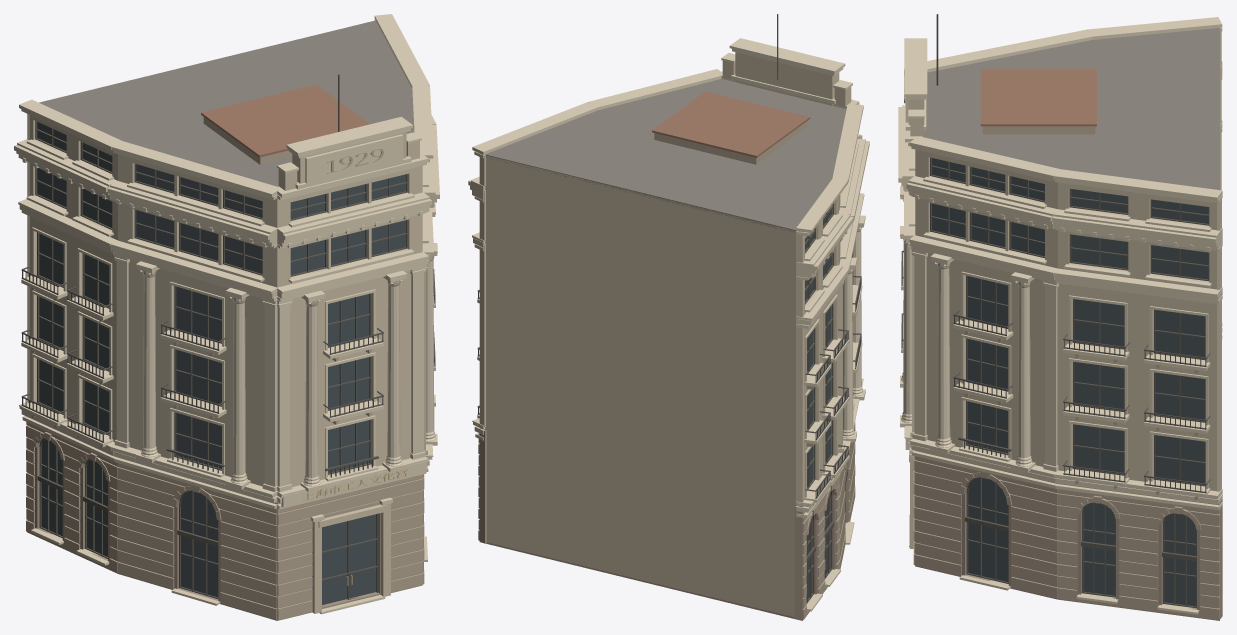
File: huangpu-oriental-hotel-lod.glb
3 renders of one model, left to right at view 1: azimuth 30°, elevation 25°; view 2: azimuth 150°, elevation 25°; view 3: azimuth 270°, elevation 25°, orthographic. The views are drawn at different scales.
Parts seen in each view (by area): view 1: 东方饭店旧址（上海市工人文化宫西端主楼）; view 2: 东方饭店旧址（上海市工人文化宫西端主楼）; view 3: 东方饭店旧址（上海市工人文化宫西端主楼）.
Boxes of the visible parts, x1=… form: 东方饭店旧址（上海市工人文化宫西端主楼）: x1=14, y1=14, x2=439, y2=620; 东方饭店旧址（上海市工人文化宫西端主楼）: x1=468, y1=14, x2=869, y2=620; 东方饭店旧址（上海市工人文化宫西端主楼）: x1=898, y1=14, x2=1222, y2=620.
Size of the model in its own units: 27.47 by 35.67 by 20.25.
